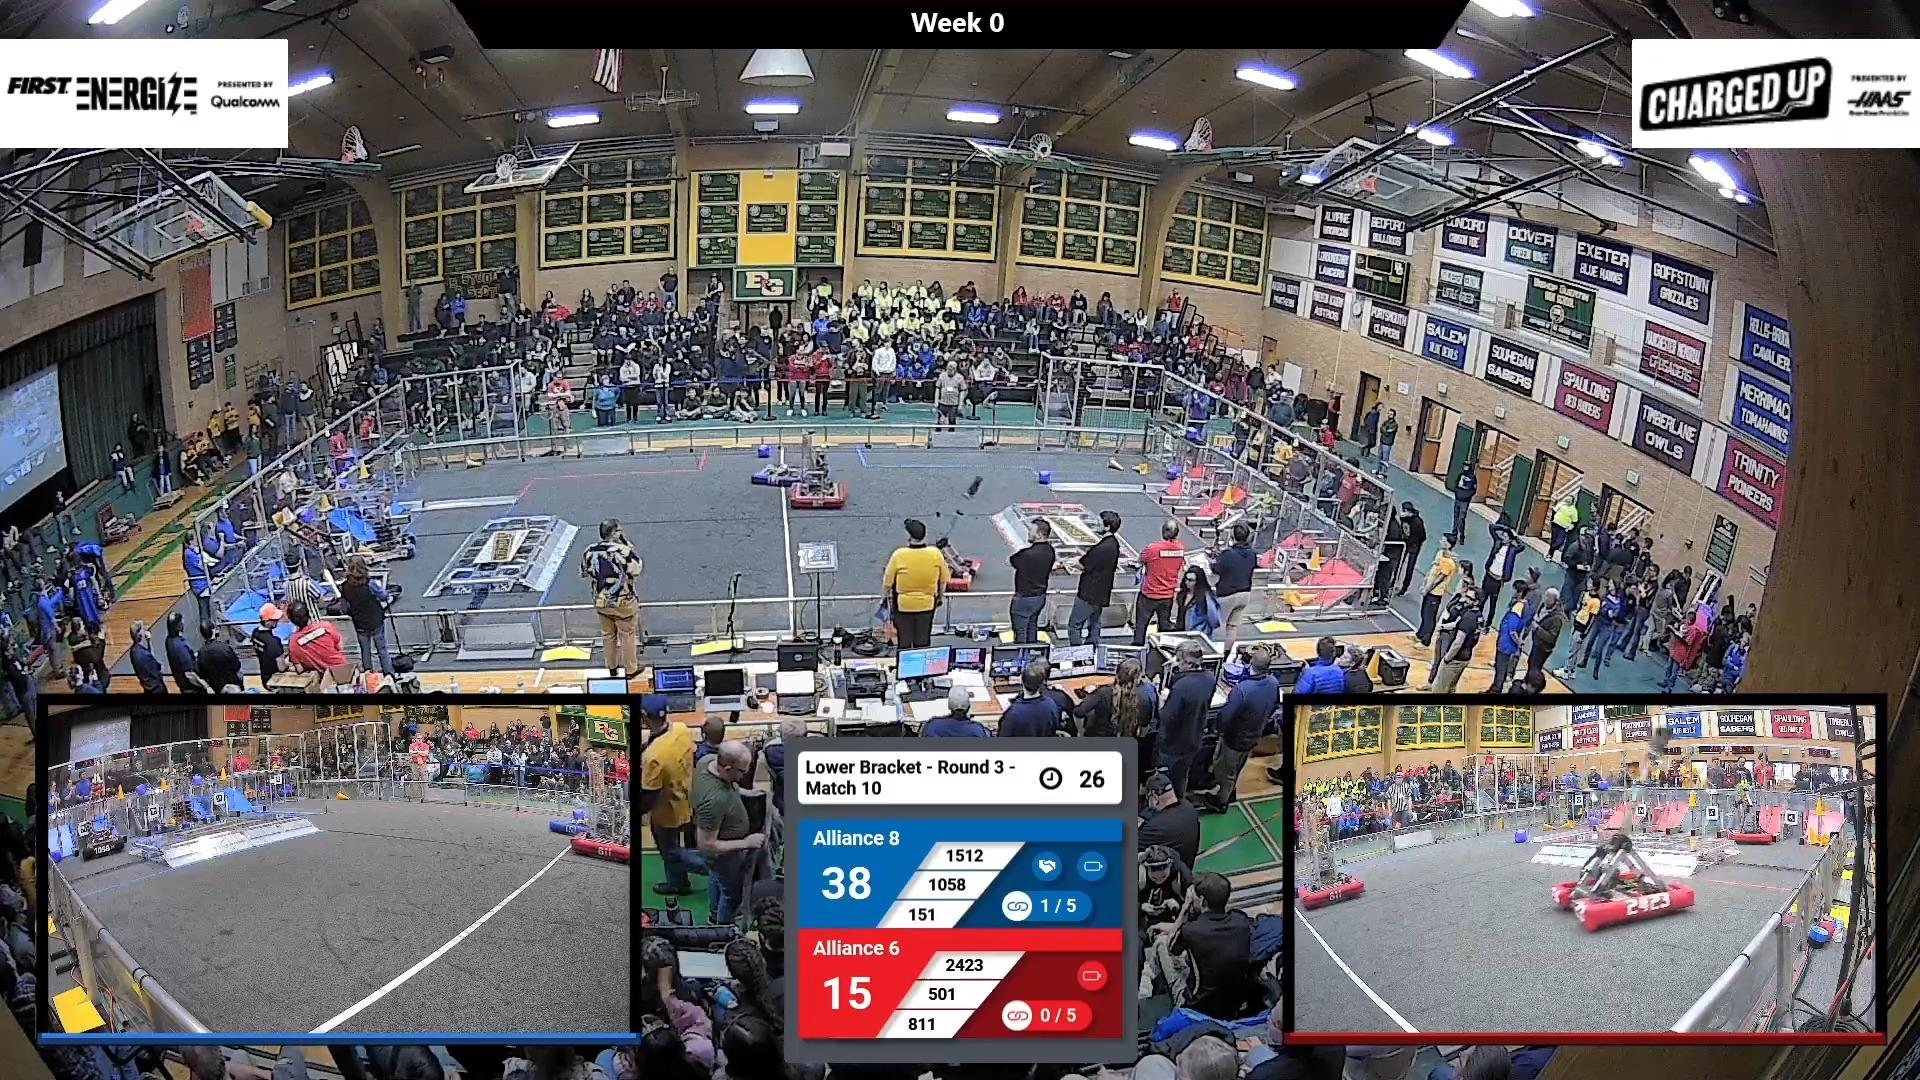robot: (302, 539, 407, 628), (906, 510, 984, 597), (356, 492, 425, 564), (779, 463, 855, 521), (746, 438, 823, 488)
